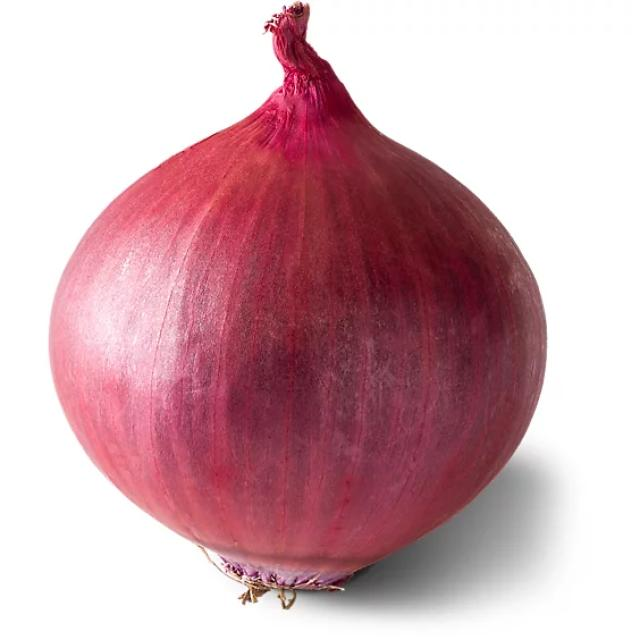onion: (45, 27, 549, 610)
